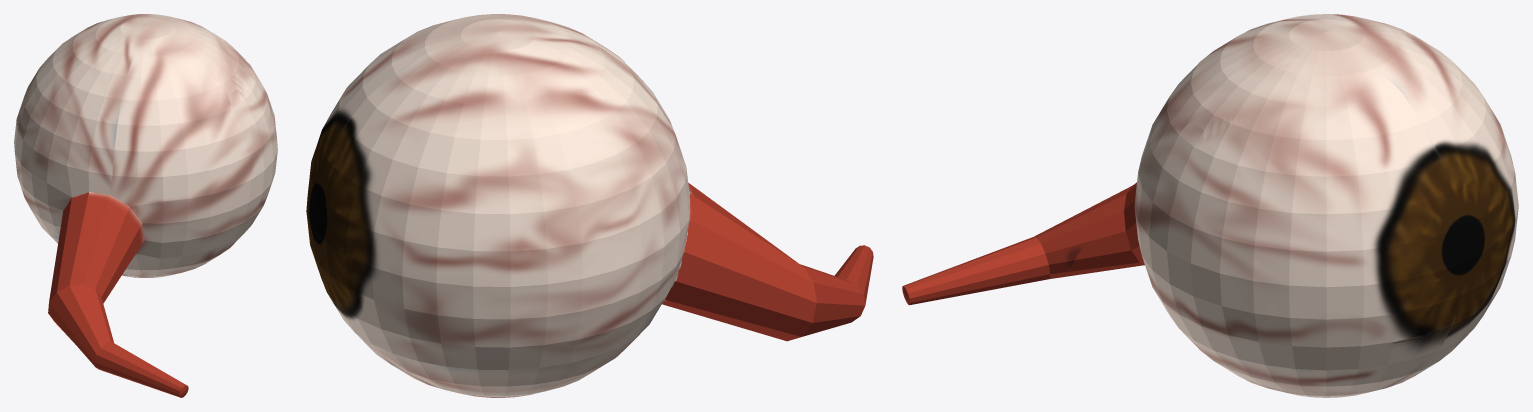
Rendered from eyeball.fbx.
3 views of the same model, side by side, from view 1: azimuth 30°, elevation 25°; view 2: azimuth 150°, elevation 25°; view 3: azimuth 270°, elevation 25° (orthographic). The views are drawn at different scales.
Parts seen in each view (by area): view 1: Sphere; view 2: Sphere; view 3: Sphere.
Part boxes in pixels (box(x1,y1,x2,y2)): Sphere: box(14, 14, 277, 397); Sphere: box(306, 14, 873, 397); Sphere: box(902, 14, 1518, 397).
Bounding box in the file's own units: 2.38 × 3.21 × 2.
